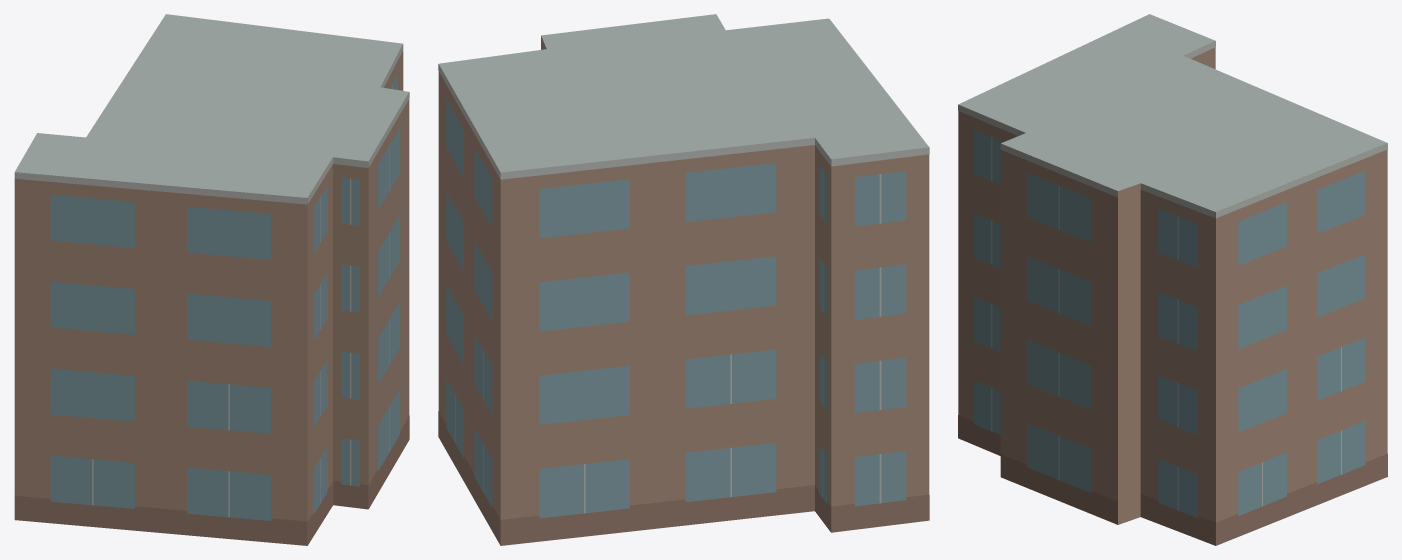
File: survey-upis-32667366.glb
3 renders of one model, left to right at view 1: azimuth 30°, elevation 25°; view 2: azimuth 150°, elevation 25°; view 3: azimuth 270°, elevation 25°, orthographic. The views are drawn at different scales.
Visible parts, largest first — view 1: survey-upis-32667366.tmp; view 2: survey-upis-32667366.tmp; view 3: survey-upis-32667366.tmp.
Part boxes in pixels (bbox=[...]): survey-upis-32667366.tmp: bbox=[14, 14, 409, 545]; survey-upis-32667366.tmp: bbox=[438, 14, 929, 545]; survey-upis-32667366.tmp: bbox=[958, 14, 1387, 545].
Size of the model in its own units: 16.43 by 12.9 by 15.06.
